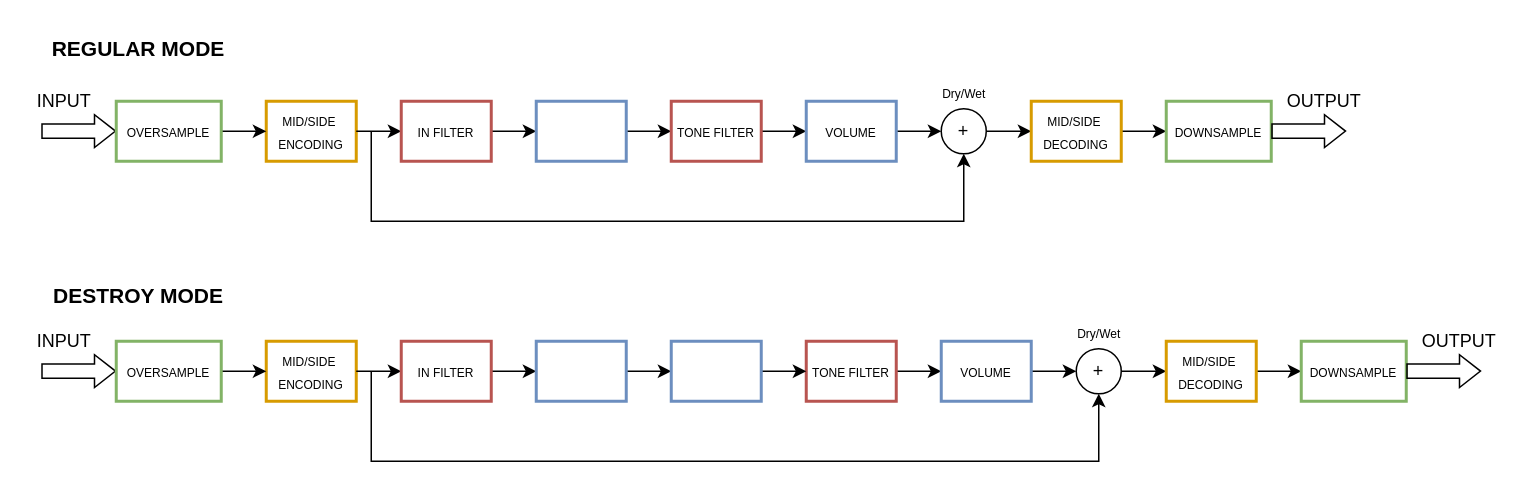
The diagram is 1529 pixels wide and 500 high, and some of its shapes have lost their labels. Here are the shapes that lost their labels. From the top down, the centre of each, then its label:
At point 580,130: "DRIVE FUNCTION".
At point 580,370: "LINEAR GAIN".
At point 715,370: "DESTROY FUNCTION".
